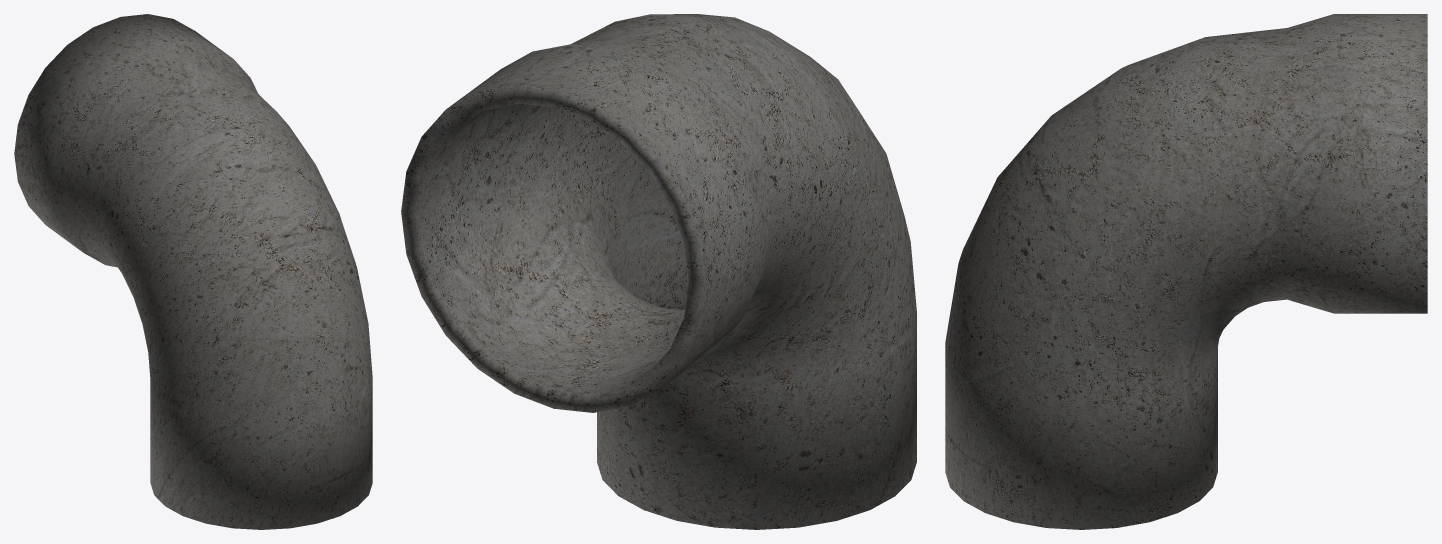
The model's file is concrete_pipe_bend.dae.
The picture shows the model from 3 angles, left to right: view 1: azimuth 30°, elevation 25°; view 2: azimuth 150°, elevation 25°; view 3: azimuth 270°, elevation 25°; orthographic projection. The views are drawn at different scales.
Parts seen in each view (by area): view 1: L; view 2: L; view 3: L.
Boxes of the visible parts, bbox=[...] form: L: bbox=[14, 14, 372, 529]; L: bbox=[401, 14, 916, 529]; L: bbox=[945, 14, 1427, 529].
Bounding box in the file's own units: 0.3951 × 0.6336 × 0.6447.
Materials: 1 (1 with a texture image).
